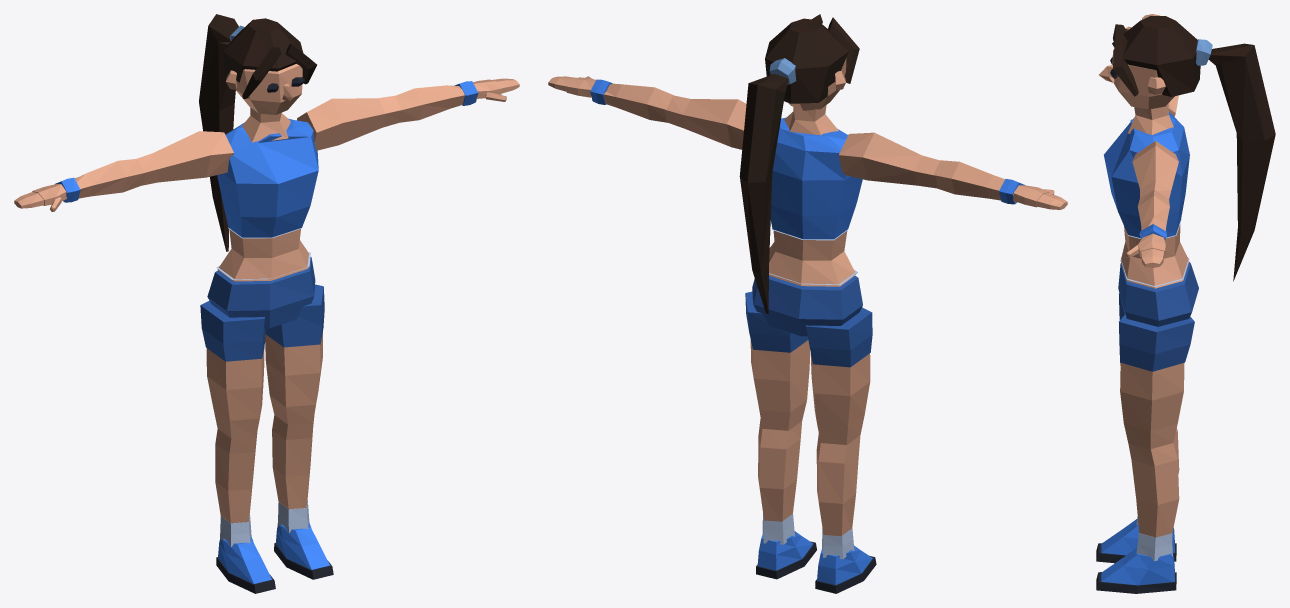
Rendered from midpoly_character.glb.
3 renders of one model, left to right at view 1: azimuth 30°, elevation 25°; view 2: azimuth 150°, elevation 25°; view 3: azimuth 270°, elevation 25°, orthographic. The views are drawn at different scales.
Parts seen in each view (by area): view 1: AthleticTop, ShortsPelvis, Thigh_R, Thigh_L, Hair, Ponytail, UpperArm_L, UpperArm_R, Waist, Calf_R, Calf_L, ShortsLeg_R (+11 smaller); view 2: AthleticTop, Ponytail, Hair, ShortsPelvis, Thigh_R, Thigh_L, UpperArm_R, Waist, Calf_R, Calf_L, UpperArm_L, ShortsLeg_R (+10 smaller); view 3: Ponytail, Hair, AthleticTop, Thigh_L, Calf_L, ShortsLeg_L, ShortsPelvis, Waist, ShoeUpper_L, UpperArm_L, Head, LowerArm_L (+8 smaller).
Part boxes in pixels (x1=…): AthleticTop: x1=217, y1=118, x2=318, y2=237; ShortsPelvis: x1=207, y1=257, x2=315, y2=328; Thigh_R: x1=206, y1=346, x2=264, y2=438; Thigh_L: x1=265, y1=332, x2=322, y2=425; Hair: x1=223, y1=18, x2=316, y2=98; Ponytail: x1=199, y1=14, x2=238, y2=251; UpperArm_L: x1=297, y1=95, x2=400, y2=150; UpperArm_R: x1=136, y1=131, x2=233, y2=185; Waist: x1=217, y1=229, x2=308, y2=281; Calf_R: x1=215, y1=429, x2=257, y2=523; Calf_L: x1=272, y1=415, x2=314, y2=509; ShortsLeg_R: x1=200, y1=300, x2=265, y2=361; AthleticTop: x1=770, y1=117, x2=862, y2=239; Ponytail: x1=739, y1=74, x2=788, y2=313; Hair: x1=765, y1=14, x2=859, y2=103; ShortsPelvis: x1=752, y1=275, x2=862, y2=336; Thigh_R: x1=810, y1=353, x2=870, y2=444; Thigh_L: x1=750, y1=340, x2=809, y2=430; UpperArm_R: x1=838, y1=132, x2=940, y2=188; Waist: x1=769, y1=230, x2=856, y2=286; Calf_R: x1=816, y1=433, x2=860, y2=536; Calf_L: x1=758, y1=419, x2=801, y2=521; UpperArm_L: x1=664, y1=95, x2=746, y2=149; ShortsLeg_R: x1=806, y1=307, x2=872, y2=367; Ponytail: x1=1208, y1=43, x2=1275, y2=281; Hair: x1=1112, y1=16, x2=1200, y2=96; AthleticTop: x1=1104, y1=112, x2=1189, y2=237; Thigh_L: x1=1120, y1=362, x2=1184, y2=449; Calf_L: x1=1128, y1=443, x2=1179, y2=537; ShortsLeg_L: x1=1119, y1=314, x2=1194, y2=371; ShortsPelvis: x1=1118, y1=262, x2=1198, y2=326; Waist: x1=1120, y1=224, x2=1189, y2=288; ShoeUpper_L: x1=1101, y1=548, x2=1174, y2=585; UpperArm_L: x1=1132, y1=141, x2=1178, y2=198; Head: x1=1099, y1=49, x2=1174, y2=109; LowerArm_L: x1=1137, y1=189, x2=1169, y2=239.
Bounding box in the file's own units: 1.67 × 1.72 × 0.5082.
